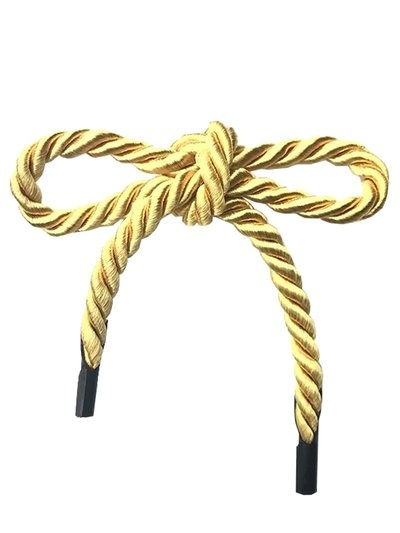9/可回收垃圾/绳子: (10, 119, 390, 496)
